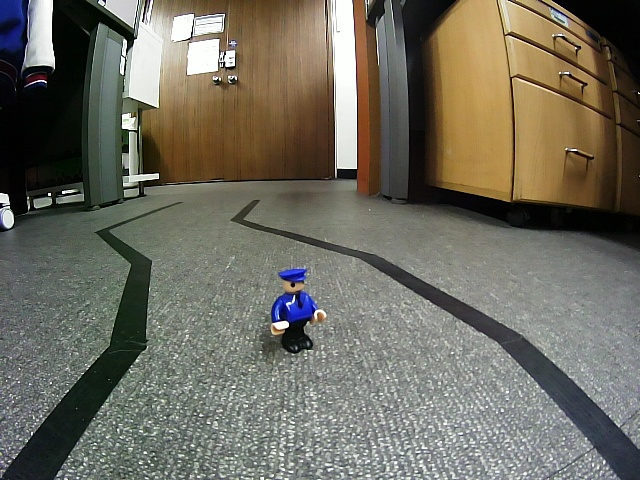person: (271, 270, 326, 353)
